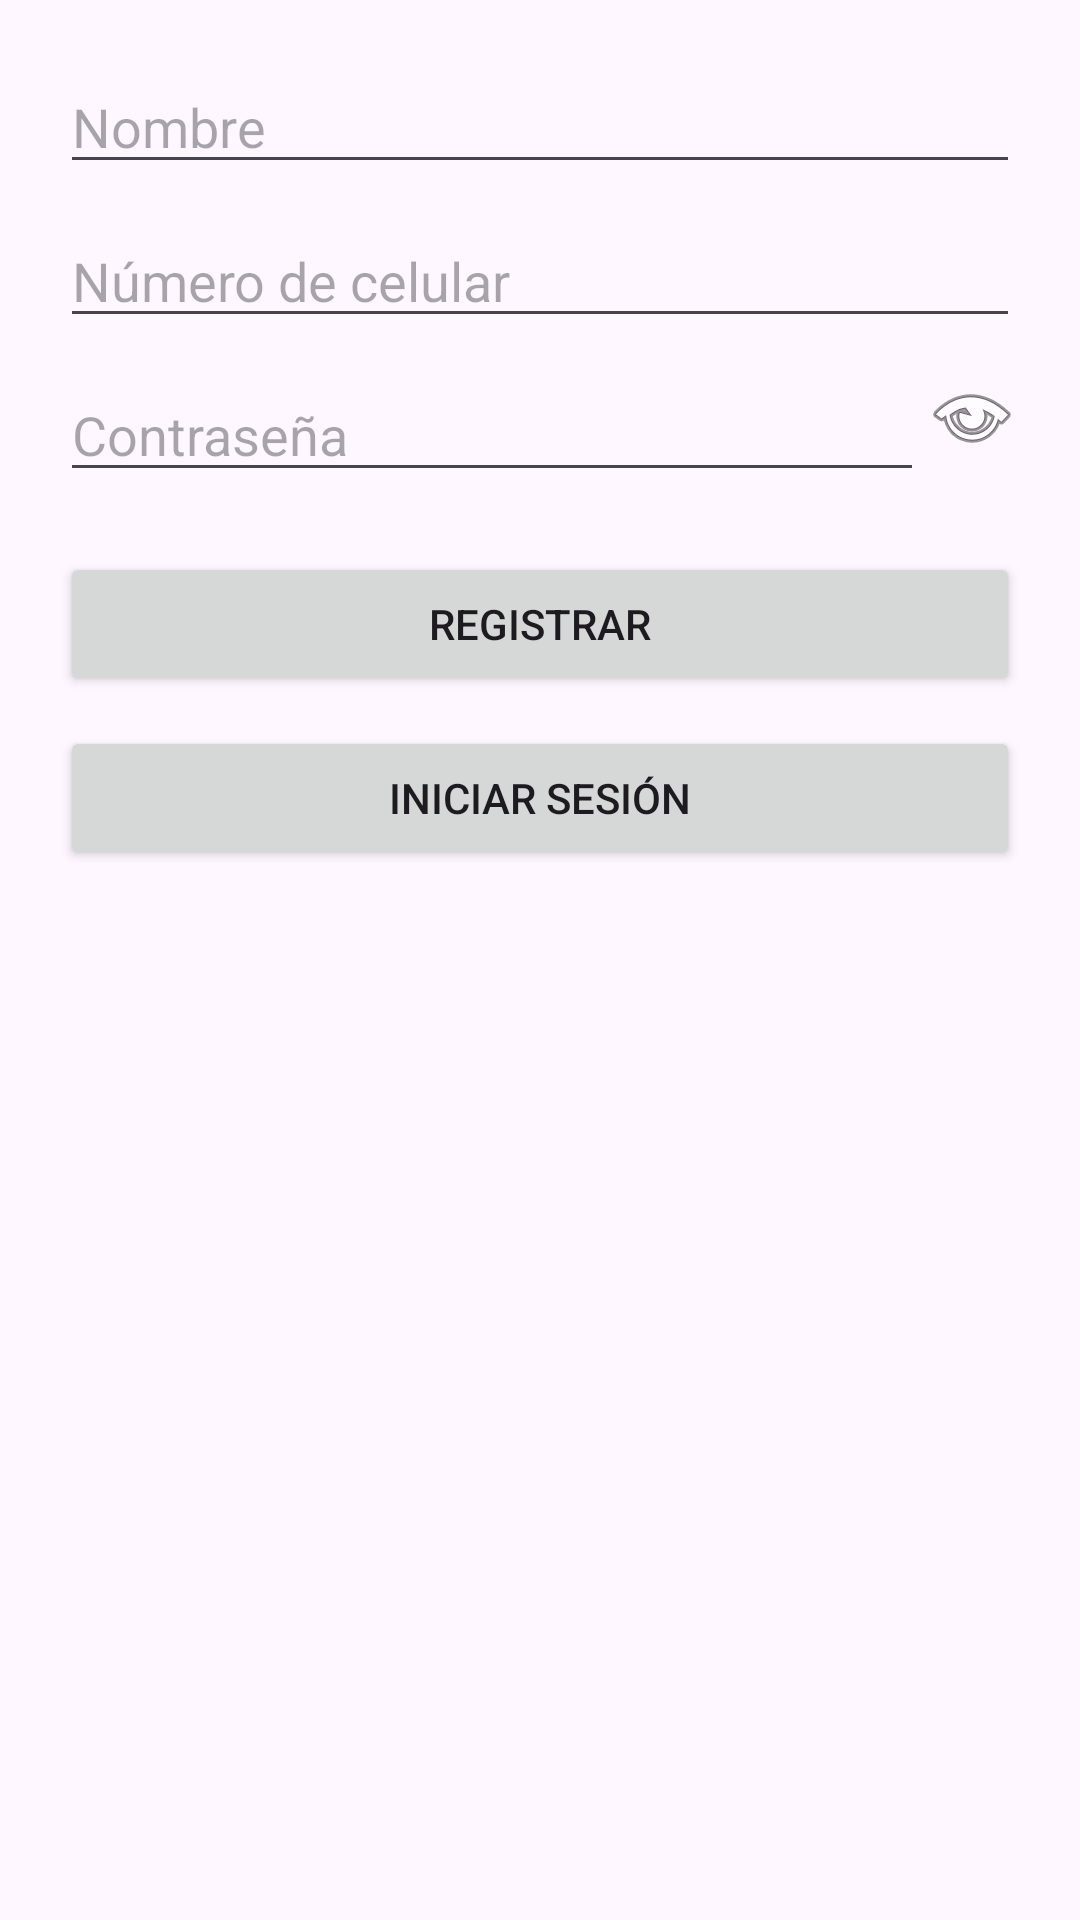

Locate icon controls on the screen. Image size 1080×1920, boxes as (x1, y1, x2, y2).
view: (933, 394, 1011, 443)
